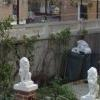Statue: (9, 49, 43, 94)
